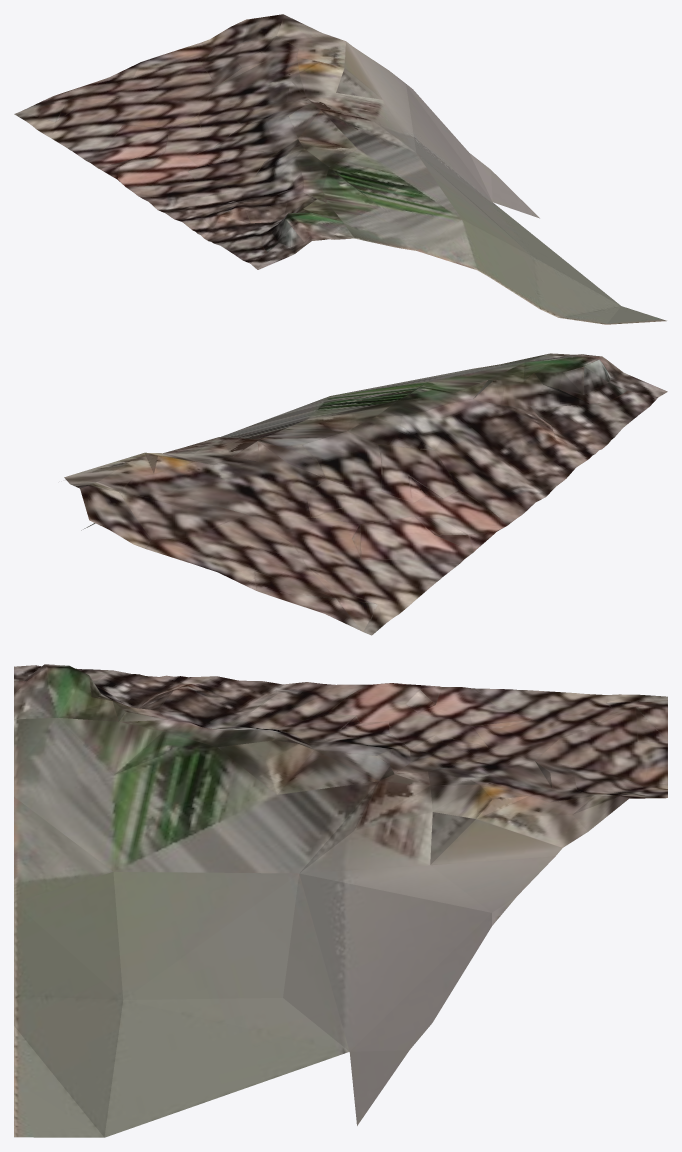
3 views of the same model, one above another, from view 1: azimuth 30°, elevation 25°; view 2: azimuth 150°, elevation 25°; view 3: azimuth 270°, elevation 25° (orthographic). The views are drawn at different scales.
Bounding box in the file's own units: 3.26 × 1.39 × 3.35.
2 materials, 2 textured.
